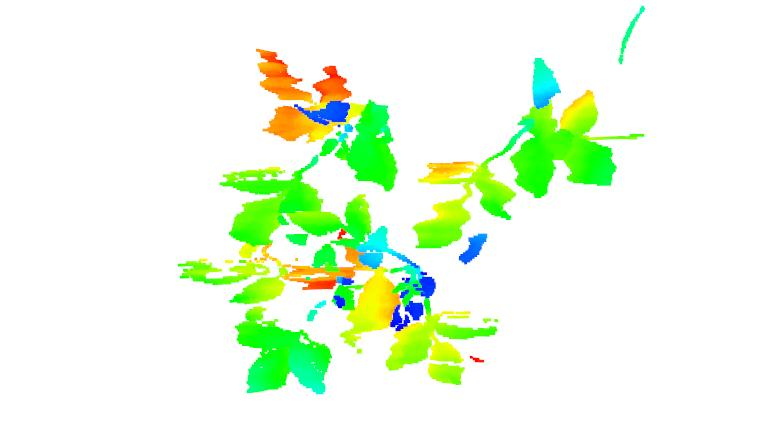mungbean: (411, 58, 643, 260), (219, 40, 407, 254), (289, 195, 480, 389), (184, 257, 345, 393)
